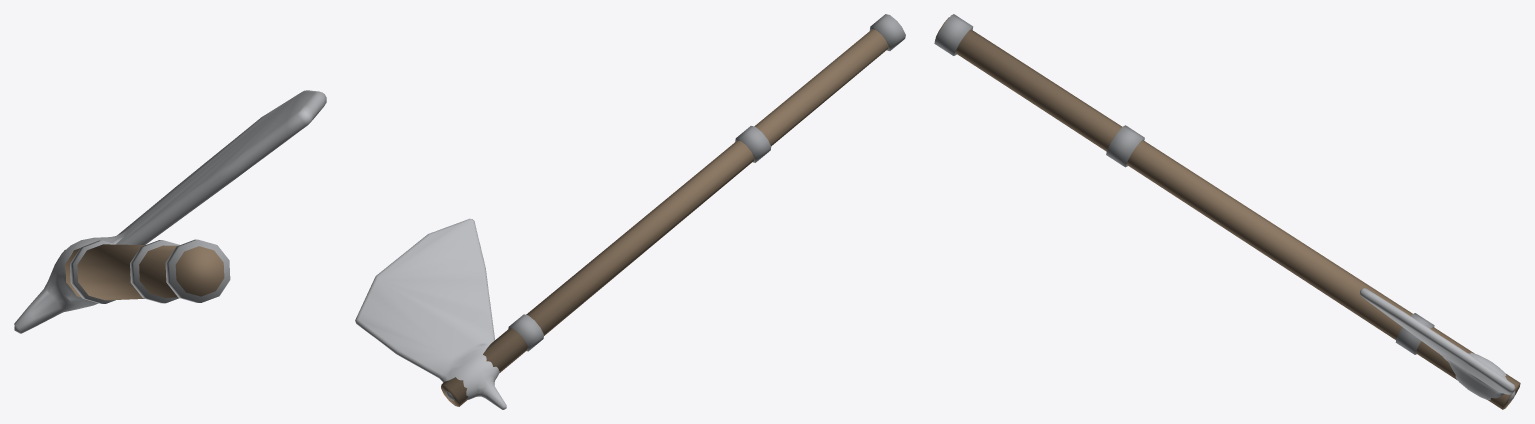
Rendered from AxeStowed.fbx.
3 renders of one model, left to right at view 1: azimuth 30°, elevation 25°; view 2: azimuth 150°, elevation 25°; view 3: azimuth 270°, elevation 25°, orthographic. The views are drawn at different scales.
Parts seen in each view (by area): view 1: AxeStowed; view 2: AxeStowed; view 3: AxeStowed.
Part boxes in pixels (x1,y1,x2,y2): AxeStowed: [14, 90, 326, 333]; AxeStowed: [355, 14, 905, 409]; AxeStowed: [934, 14, 1520, 409].
Bounding box in the file's own units: 30.28 × 24.71 × 45.31.
